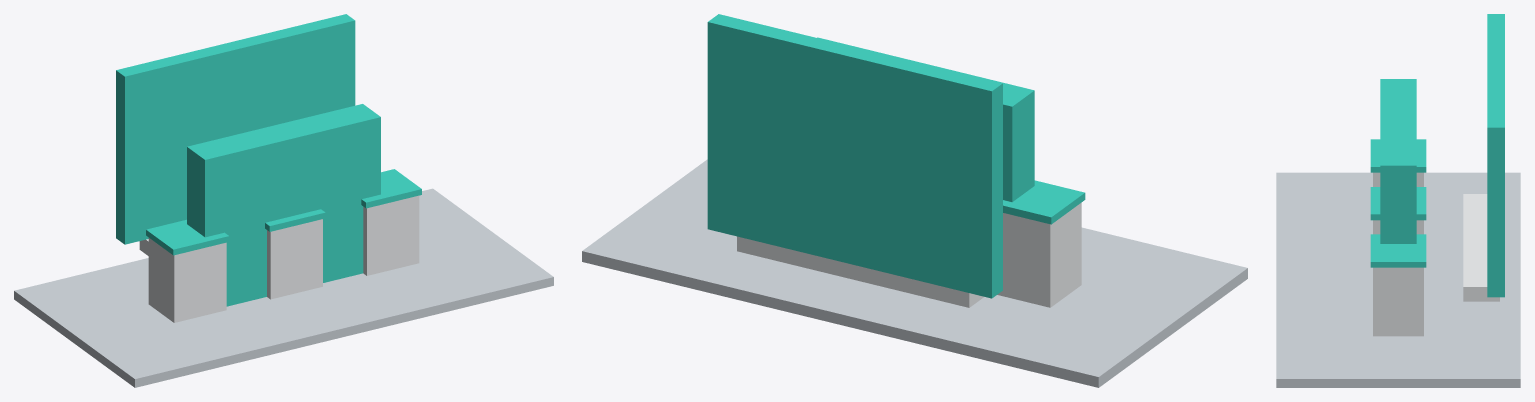
The picture shows the model from 3 angles, left to right: view 1: azimuth 30°, elevation 25°; view 2: azimuth 150°, elevation 25°; view 3: azimuth 270°, elevation 25°; orthographic projection. The views are drawn at different scales.
Parts seen in each view (by area): view 1: Exhibition Booth Concept; view 2: Exhibition Booth Concept; view 3: Exhibition Booth Concept.
Part boxes in pixels (box(x1,y1,x2,y2)): Exhibition Booth Concept: box(14, 14, 553, 387); Exhibition Booth Concept: box(582, 14, 1247, 387); Exhibition Booth Concept: box(1276, 14, 1520, 387).
Size of the model in its own units: 6 by 2.9 by 3.
